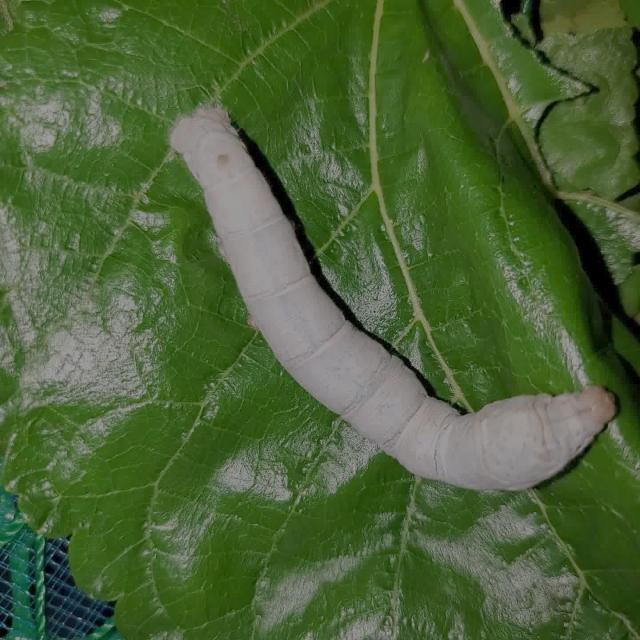Healthy: (146, 74, 630, 534)
